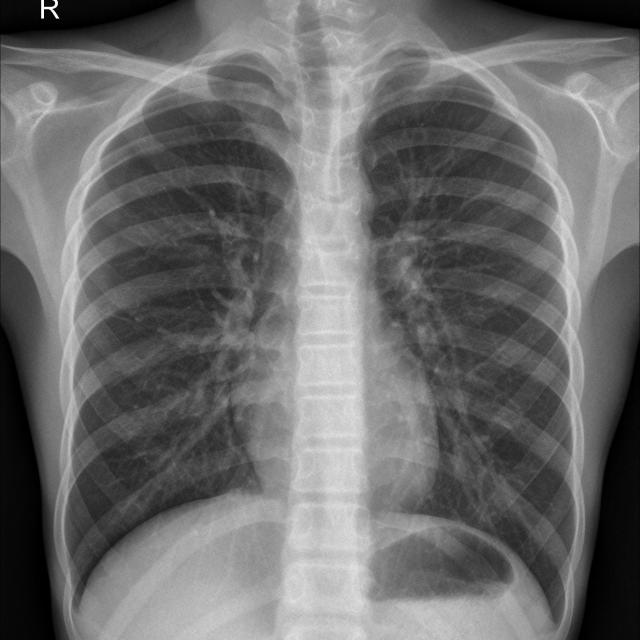no-pneumonia: (67, 55, 292, 575), (363, 51, 575, 586)
